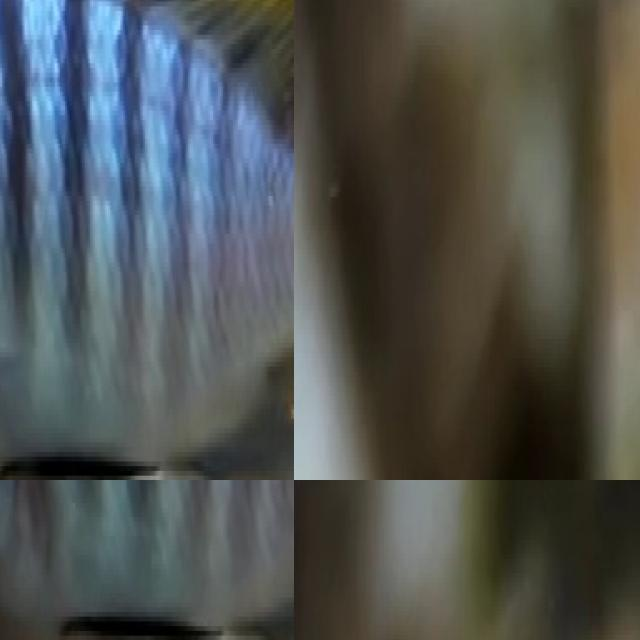fish: (0, 0, 294, 480), (0, 480, 294, 640)
